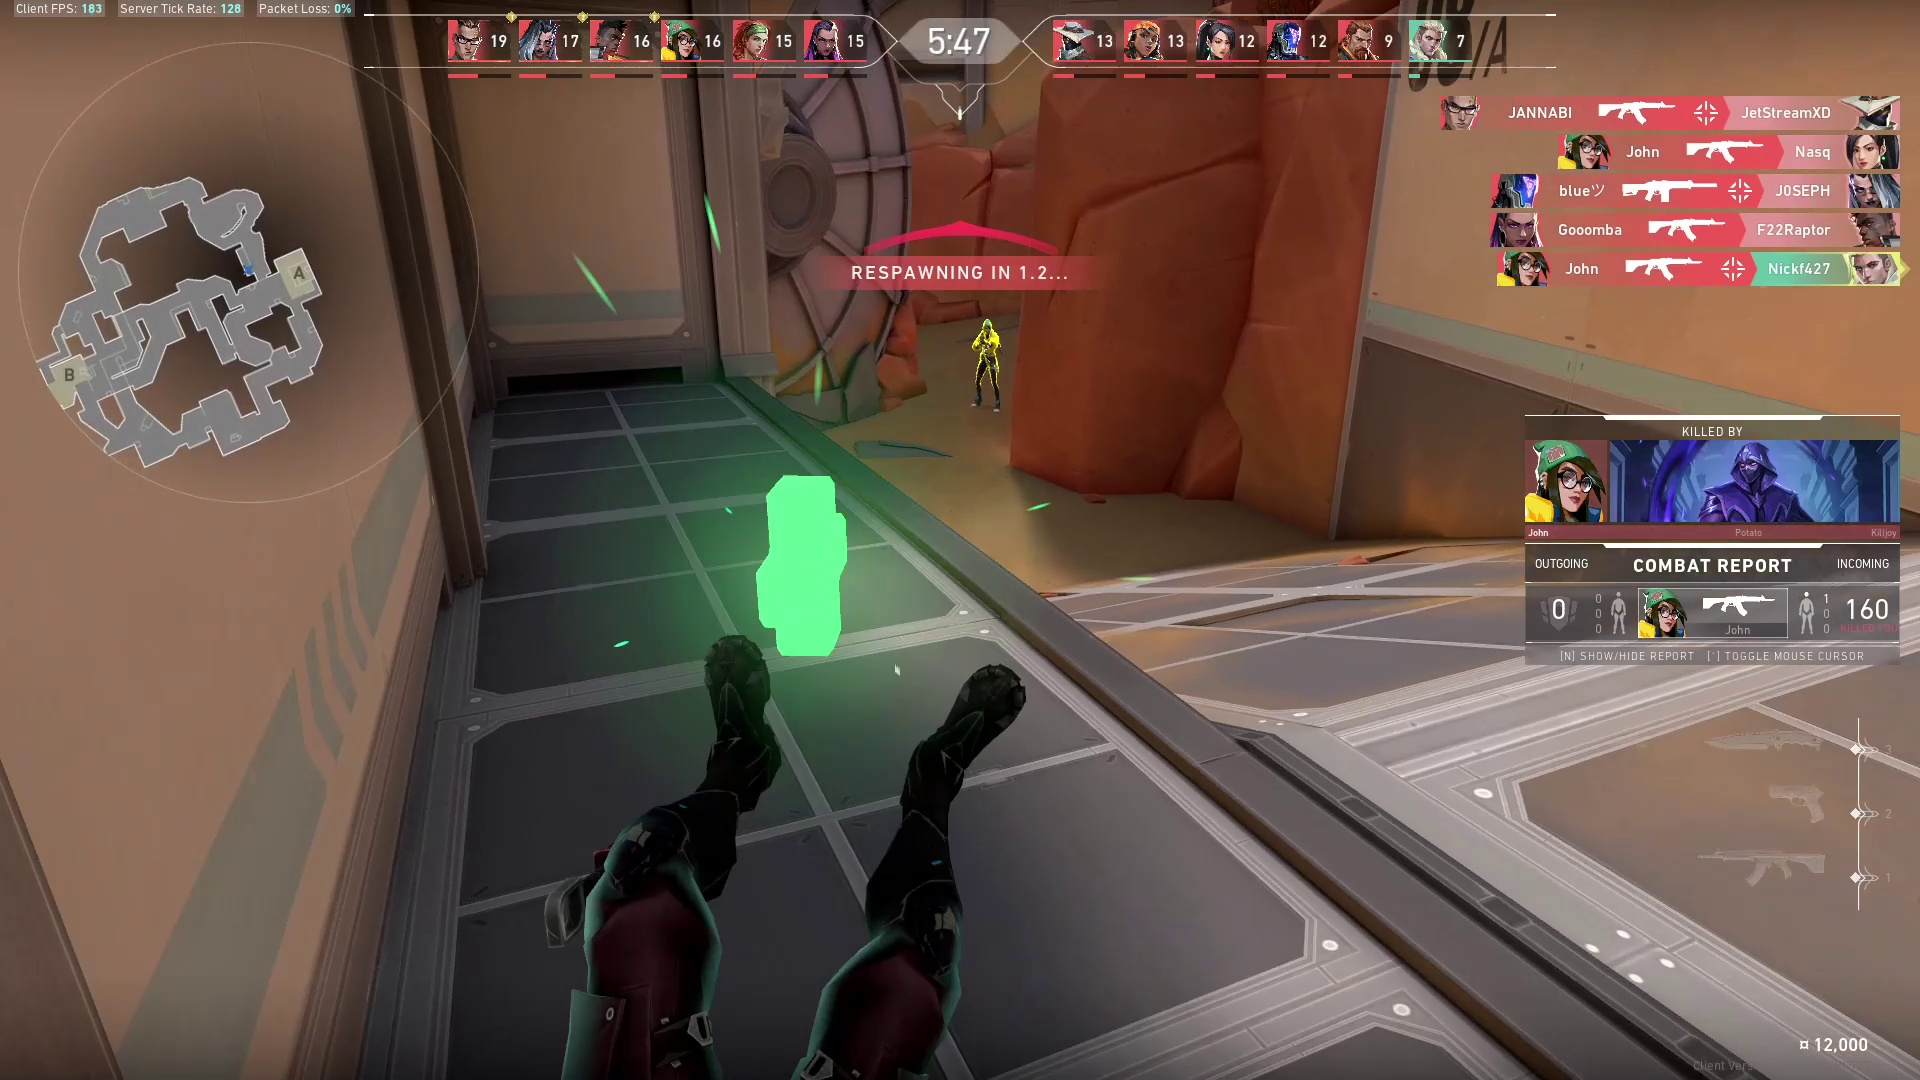enemy_body: (975, 334, 1005, 415)
enemy_head: (980, 316, 996, 334)
